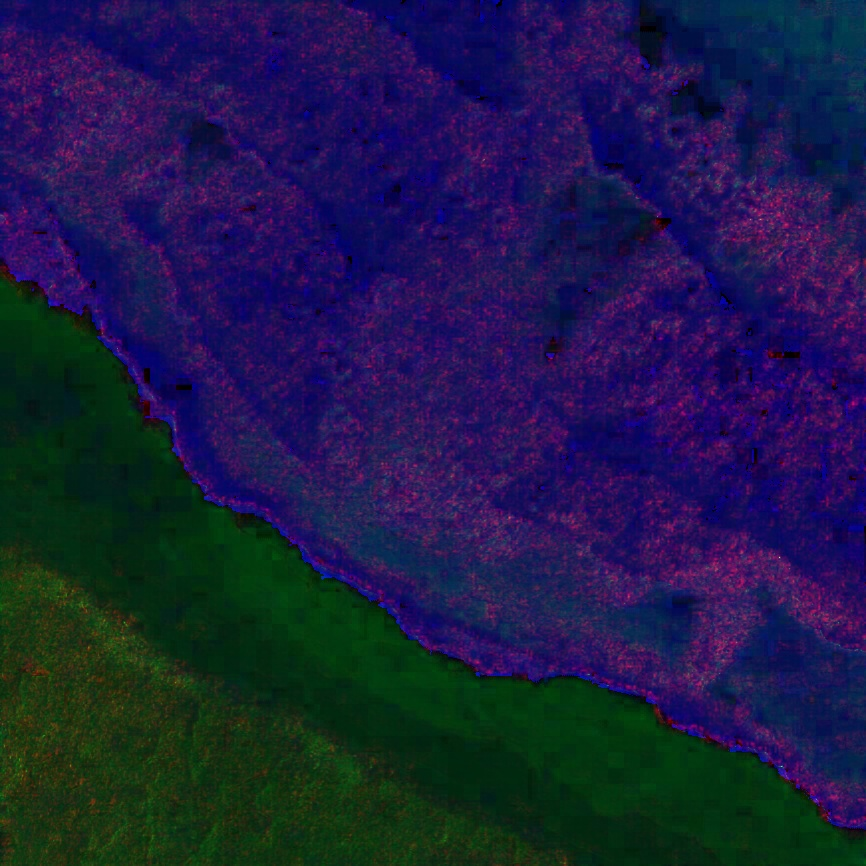rip_current: (294, 60, 747, 537)
